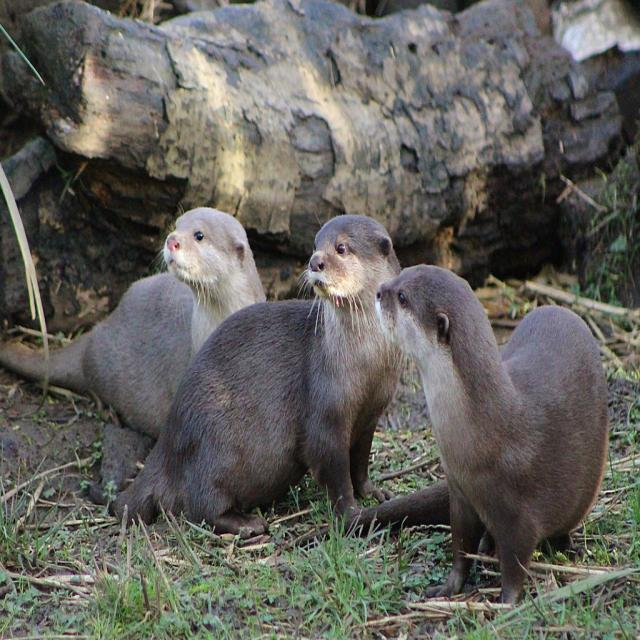otter: (119, 218, 404, 519), (378, 266, 607, 597), (78, 210, 267, 425)
